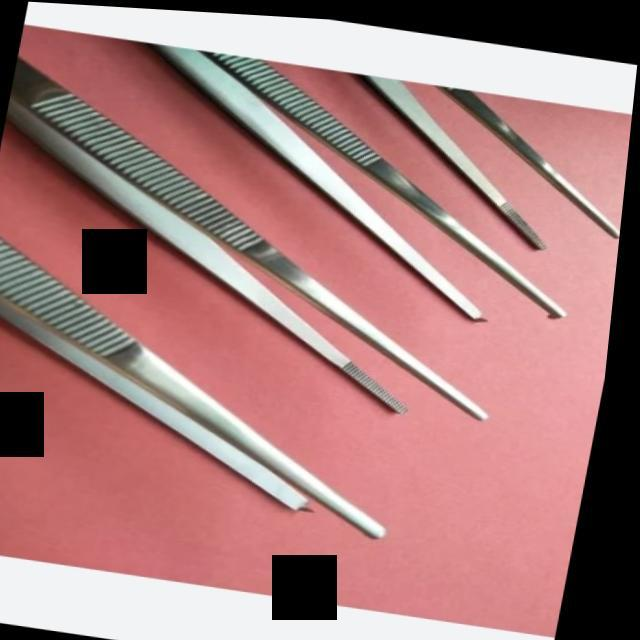Disscting Forceps -Plain-: (0, 60, 558, 424), (402, 74, 636, 248)
Disscting Forceps -tooth-: (80, 31, 615, 329), (0, 244, 436, 541)
